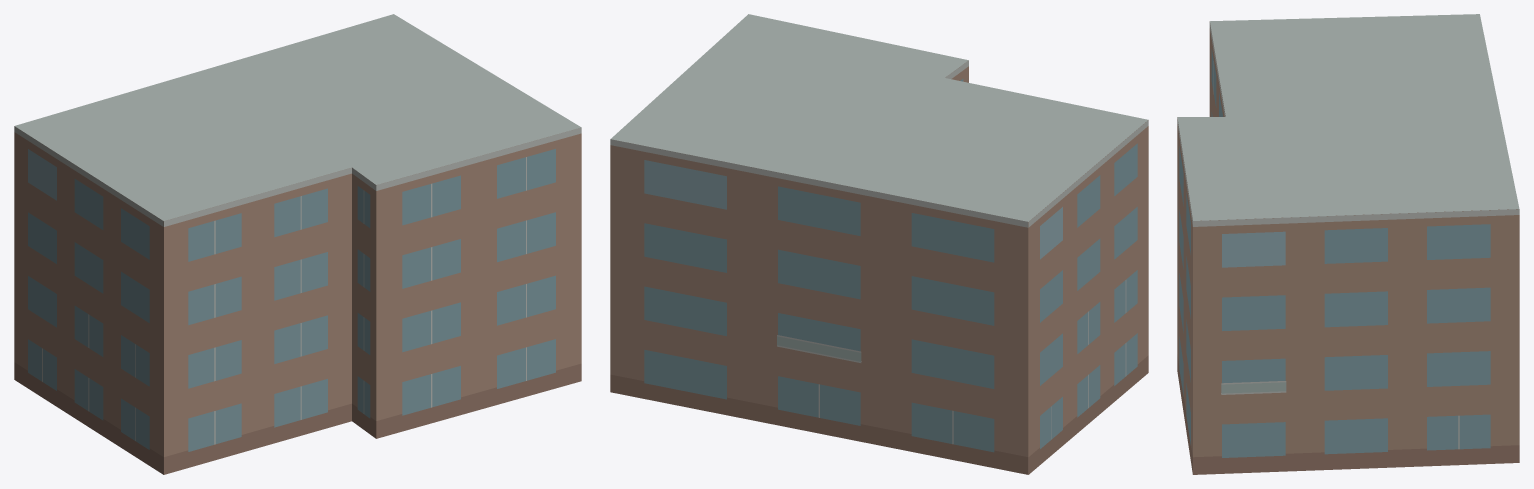
Rendered from survey-upis-32905694.glb.
The picture shows the model from 3 angles, left to right: view 1: azimuth 30°, elevation 25°; view 2: azimuth 150°, elevation 25°; view 3: azimuth 270°, elevation 25°; orthographic projection.
Parts seen in each view (by area): view 1: survey-upis-32905694.tmp; view 2: survey-upis-32905694.tmp; view 3: survey-upis-32905694.tmp.
Boxes of the visible parts, <box> form: survey-upis-32905694.tmp: <box>14,14,581,474</box>; survey-upis-32905694.tmp: <box>610,14,1148,474</box>; survey-upis-32905694.tmp: <box>1177,14,1519,474</box>.
Size of the model in its own units: 18.2 by 10.4 by 12.71.
